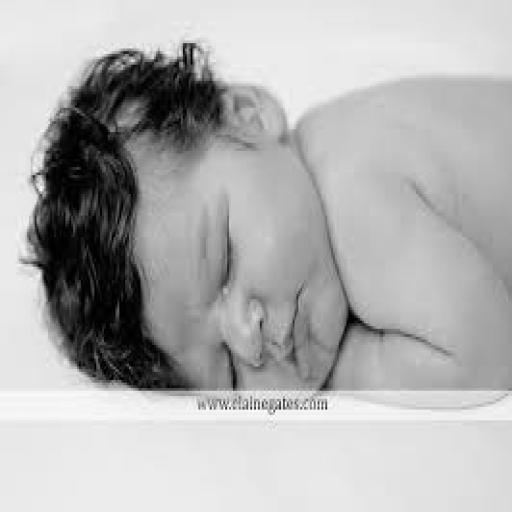sleeping: (19, 38, 510, 396)
